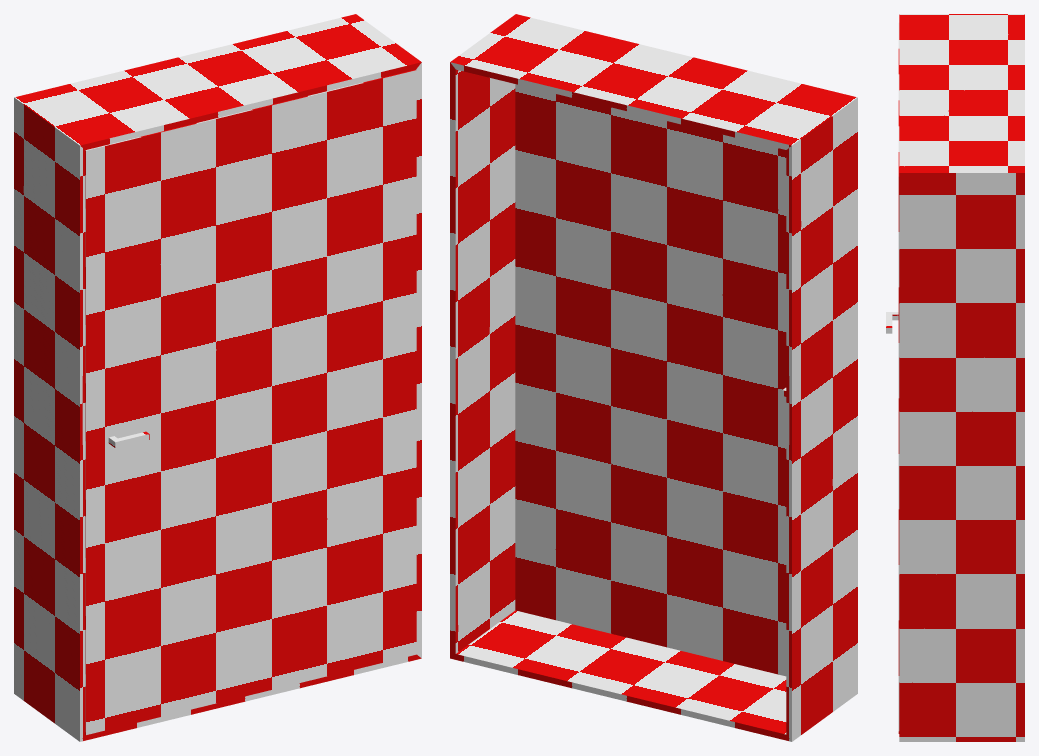
The model's file is door.dae.
3 renders of one model, left to right at view 1: azimuth 30°, elevation 25°; view 2: azimuth 150°, elevation 25°; view 3: azimuth 270°, elevation 25°, orthographic. The views are drawn at different scales.
Visible parts, largest first — view 1: door, border; view 2: door, border; view 3: border, door.
Part boxes in pixels (x1,y1,x2,y2): door: [85, 69, 416, 734]; border: [14, 14, 421, 741]; door: [515, 84, 786, 676]; border: [450, 14, 857, 741]; border: [899, 14, 1024, 741]; door: [886, 23, 899, 733].
Bounding box in the file's own units: 3 × 1.11 × 5.
1 material, 1 textured.
